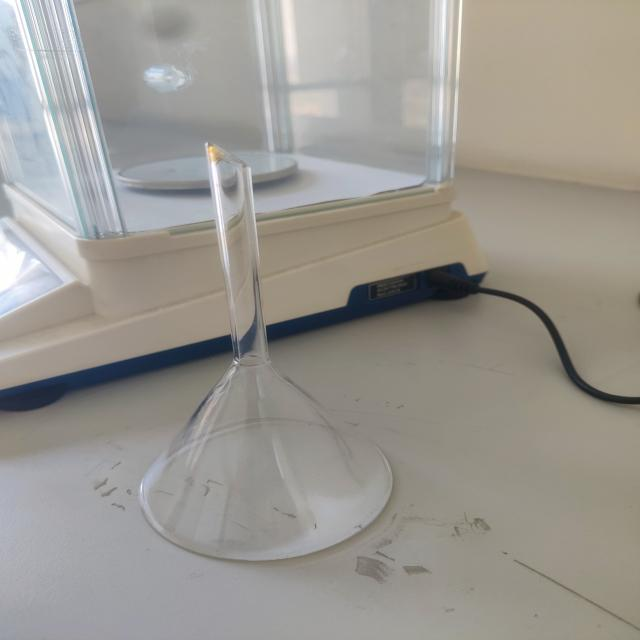Funnel: (94, 101, 437, 596)
